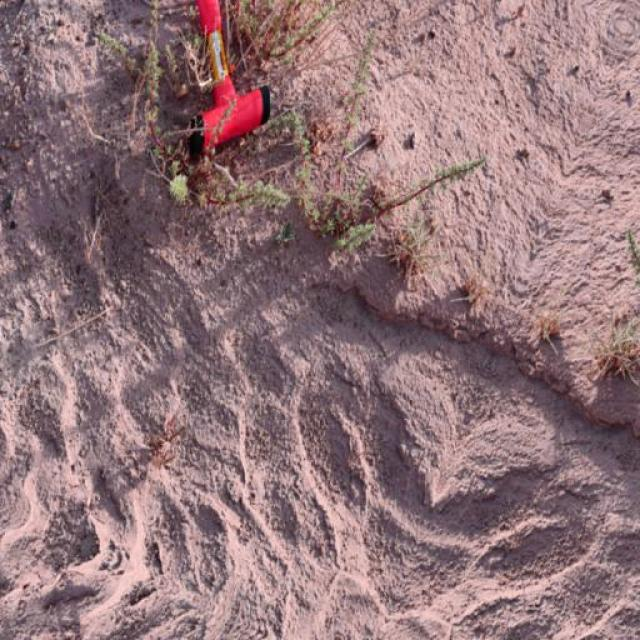mallet: (181, 0, 274, 158)
